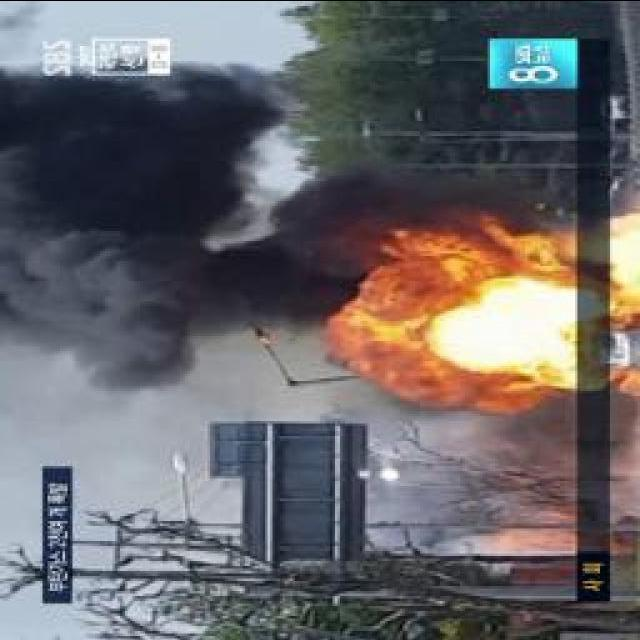Fire: (374, 214, 634, 400)
